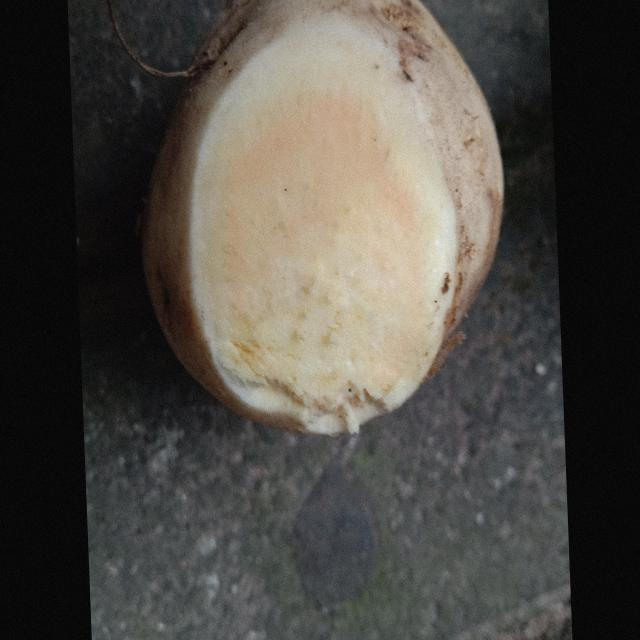Healthy Sweet Potato: (191, 13, 456, 433)
